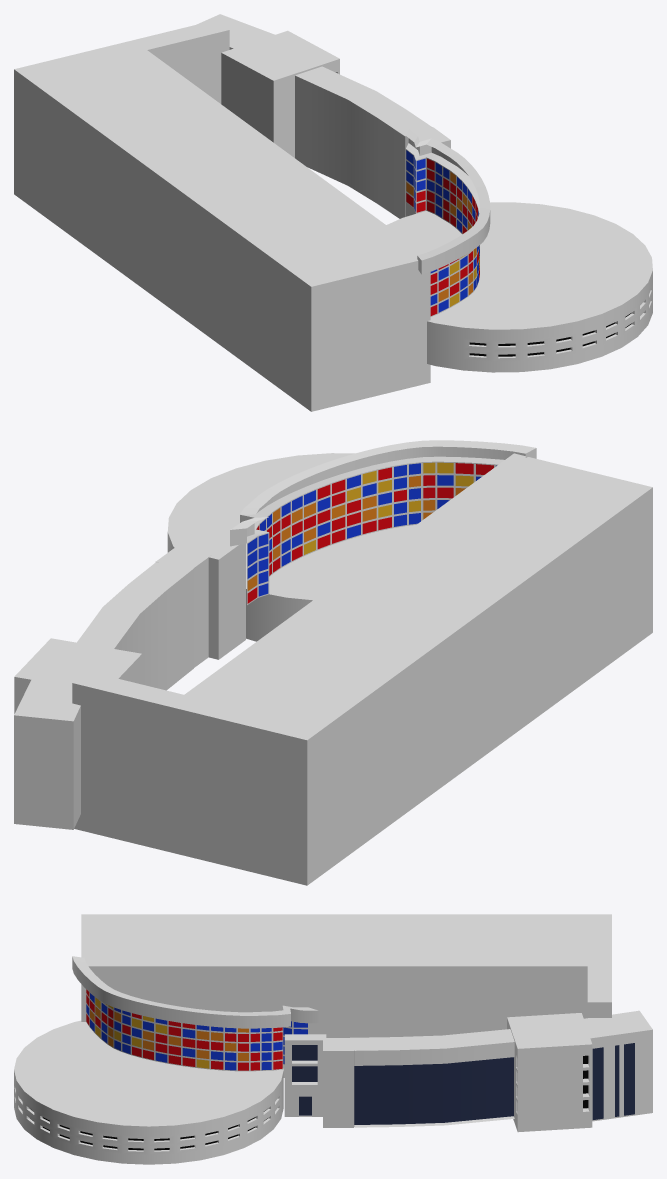
File: LHC2.fbx
The picture shows the model from 3 angles, top to bottom: view 1: azimuth 30°, elevation 25°; view 2: azimuth 150°, elevation 25°; view 3: azimuth 270°, elevation 25°; orthographic projection. The views are drawn at different scales.
Visible parts, largest first — view 1: Cube.004, Cylinder, Cube.002, Cube.001, BezierCurve.001, BezierCurve.002; view 2: Cube.004, Cube.001, Cylinder, BezierCurve.001, BezierCurve.002, Cube.002, Cube.003, Cube; view 3: Cube.004, Cylinder, Cube.001, Cube.002, BezierCurve.001, BezierCurve.002, Cube.003, Cube.
Part boxes in pixels (x1,y1,x2,y2): Cube.004: [14, 20, 430, 411]; Cylinder: [386, 202, 652, 372]; Cube.002: [295, 66, 432, 218]; Cube.001: [197, 14, 339, 157]; BezierCurve.001: [405, 129, 490, 316]; BezierCurve.002: [406, 150, 479, 315]; Cube.004: [72, 453, 652, 885]; Cube.001: [14, 638, 141, 829]; Cylinder: [167, 453, 415, 641]; BezierCurve.001: [230, 440, 536, 604]; BezierCurve.002: [247, 462, 496, 603]; Cube.002: [77, 562, 193, 690]; Cube.003: [206, 536, 245, 659]; Cube: [156, 547, 210, 667]; Cube.004: [81, 914, 611, 1077]; Cylinder: [14, 1020, 283, 1164]; Cube.001: [507, 1010, 652, 1132]; Cube.002: [350, 1029, 514, 1127]; BezierCurve.001: [72, 956, 318, 1071]; BezierCurve.002: [86, 989, 307, 1070]; Cube.003: [284, 1034, 326, 1116]; Cube: [323, 1038, 353, 1127].
Size of the model in its own units: 13419 by 4617 by 23151.
